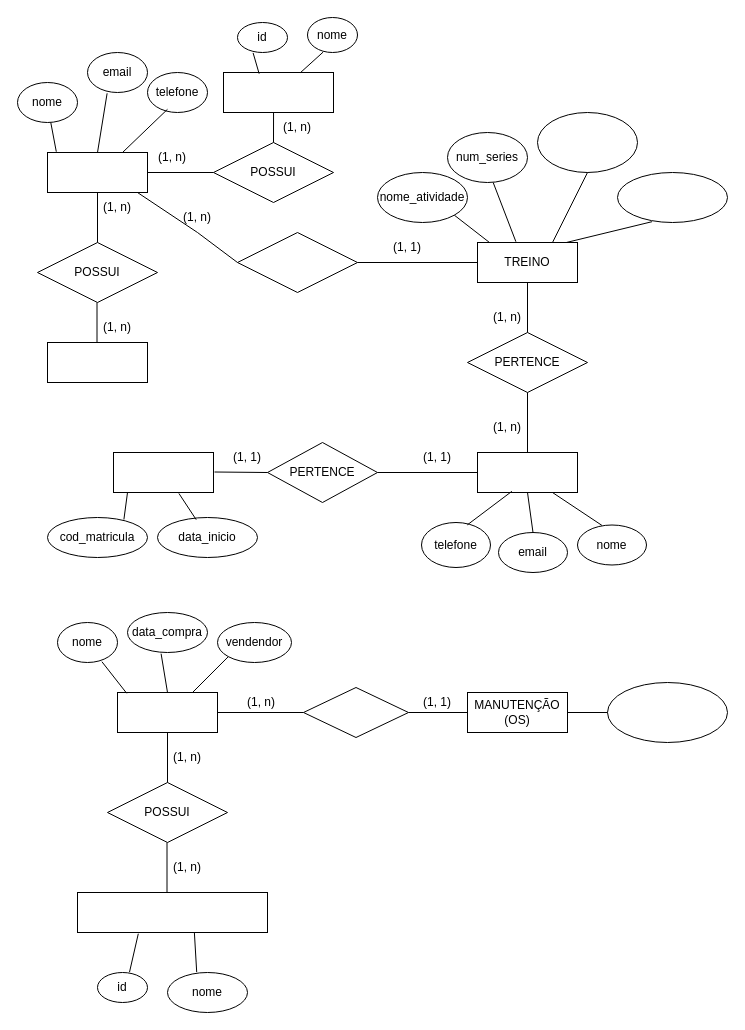
Some shapes in this 745 by 1030 pixel diagram are drawn without their labels. Here are the shapes that lost their labels. From the top down, the centre of each, then its label:
At pixel 278 92: "ESPECIALIDADE".
At pixel 587 142: "num_repetições".
At pixel 97 172: "INSTRUTOR".
At pixel 672 197: "tempo_descanso".
At pixel 297 262: "MONTA".
At pixel 97 362: "HORÁRIOS".
At pixel 163 472: "MATRICULA".
At pixel 527 472: "CLIENTE".
At pixel 167 712: "EQUIPAMENTO".
At pixel 355 712: "REALIZA".
At pixel 667 712: "data_ultima_revisao".
At pixel 172 912: "CATEGORIA_EQUIPAMENTO".
